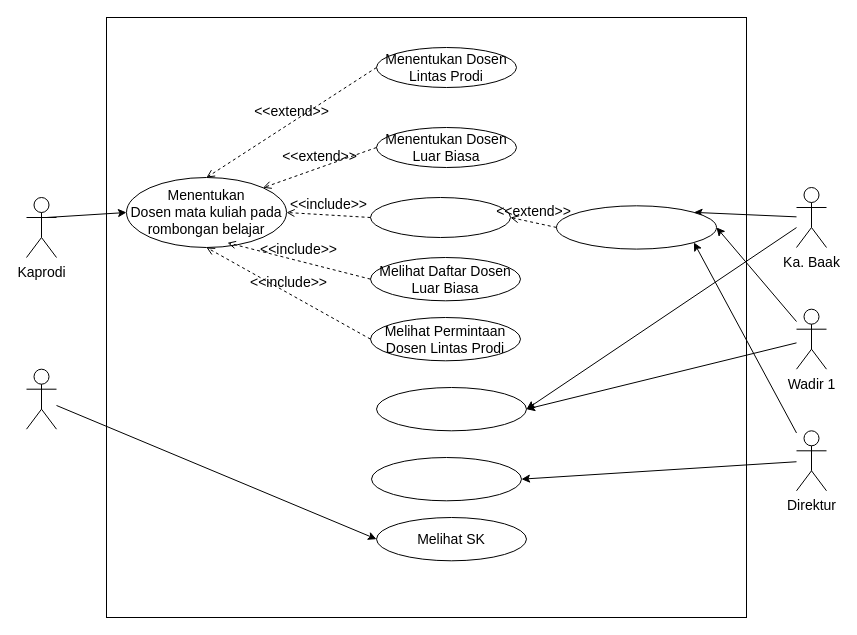
The diagram is 857 pixels wide and 635 high, and some of its shapes have lost their labels. Each missing label, with the box of its shape:
Dosen: (26, 368, 56, 429)
Melakukan Validasi SK: (370, 456, 522, 501)
Melakukan Verifikasi SK: (376, 386, 526, 431)
Melihat Data Distribusi: (556, 205, 716, 249)
Submit: (370, 196, 510, 238)
